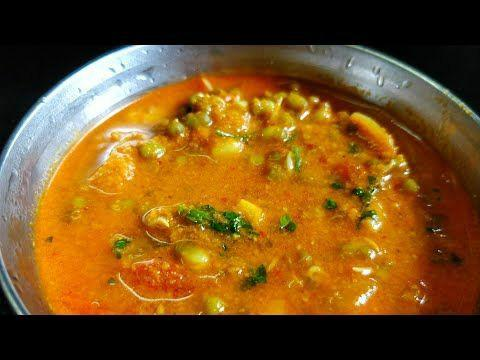RajmaCurry: (34, 70, 480, 316)
